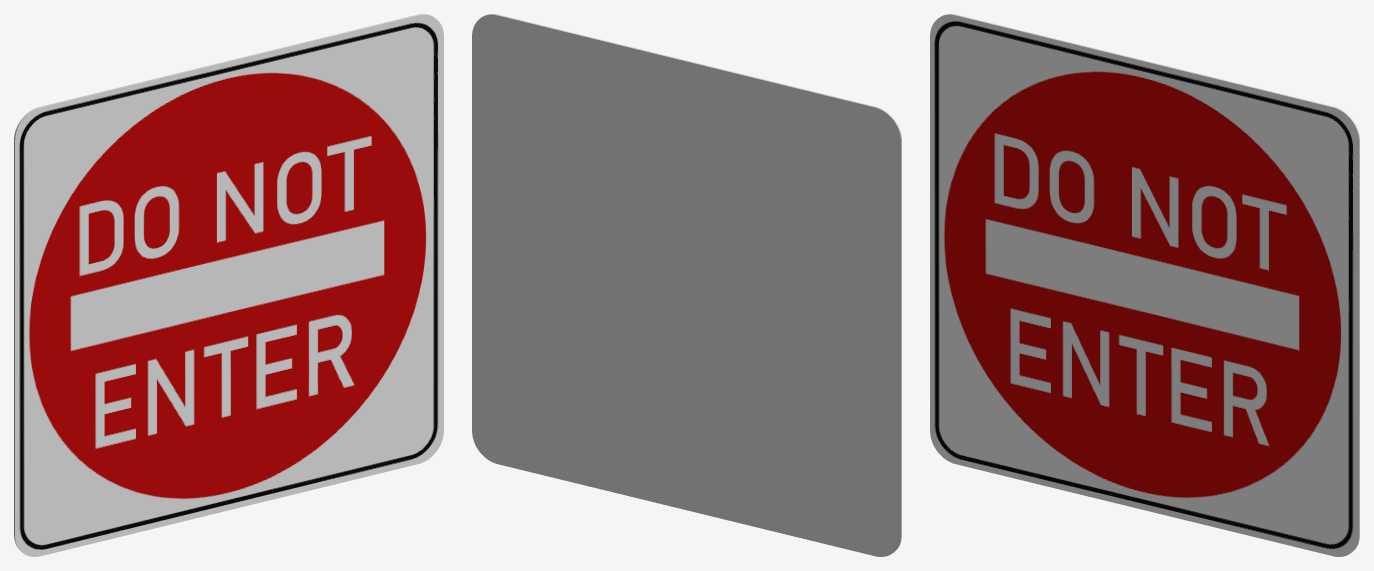
File: TrafficSign_Square.fbx
3 views of the same model, side by side, from view 1: azimuth 30°, elevation 25°; view 2: azimuth 150°, elevation 25°; view 3: azimuth 330°, elevation 25° (orthographic).
Parts seen in each view (by area): view 1: 立方体; view 2: 立方体; view 3: 立方体.
Boxes of the visible parts, bbox=[...] form: 立方体: bbox=[14, 14, 443, 556]; 立方体: bbox=[472, 14, 901, 556]; 立方体: bbox=[930, 14, 1359, 556].
Size of the model in its own units: 200 by 200 by 0.8.
